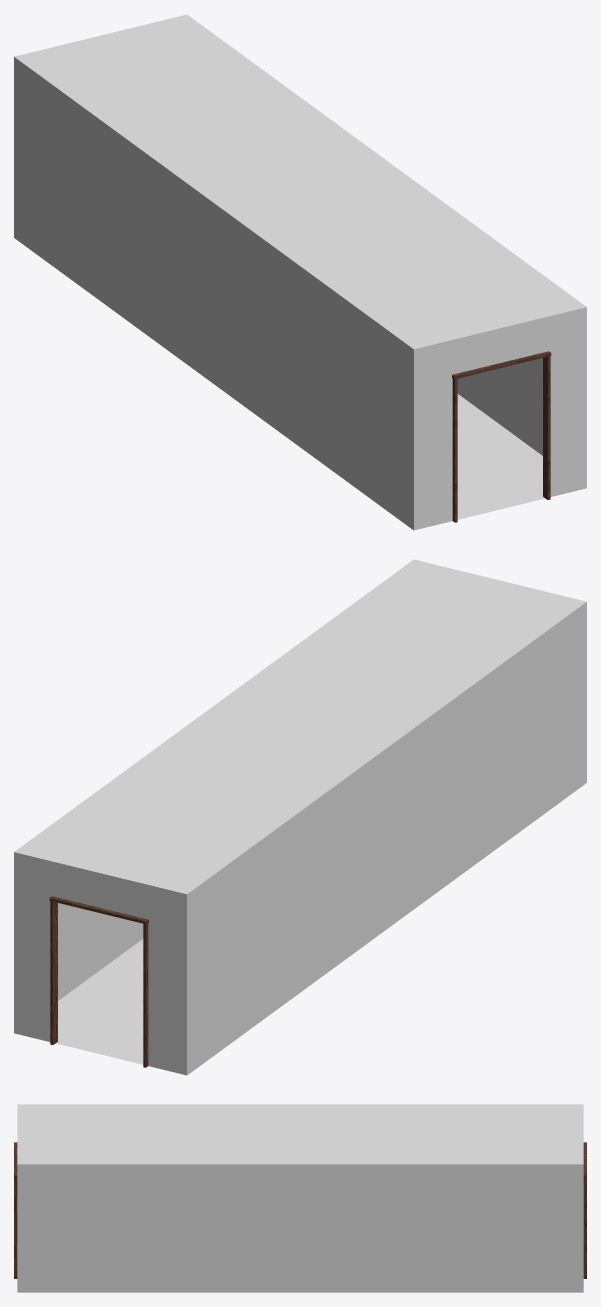
Rendered from longstraighthallway.fbx.
3 renders of one model, top to bottom at view 1: azimuth 30°, elevation 25°; view 2: azimuth 150°, elevation 25°; view 3: azimuth 270°, elevation 25°, orthographic. The views are drawn at different scales.
Parts seen in each view (by area): view 1: Long Straight Hallway; view 2: Long Straight Hallway; view 3: Long Straight Hallway.
Boxes of the visible parts, x1,y1,x2,y2 form: Long Straight Hallway: (14, 14, 586, 530); Long Straight Hallway: (14, 559, 586, 1075); Long Straight Hallway: (14, 1104, 586, 1292).
Size of the model in its own units: 250 by 250 by 1012.
Materials: 3 (1 with a texture image).
